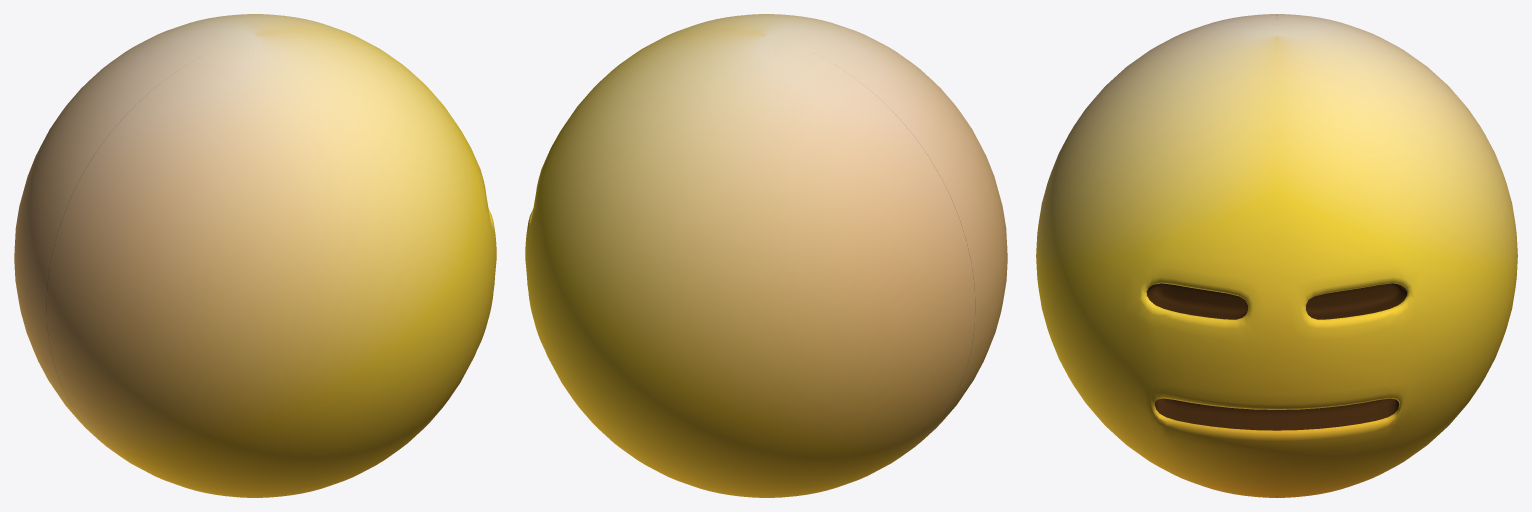
File: normal.glb
3 renders of one model, left to right at view 1: azimuth 30°, elevation 25°; view 2: azimuth 150°, elevation 25°; view 3: azimuth 270°, elevation 25°, orthographic.
Visible parts, largest first — view 1: Sphere.014_0; view 2: Sphere.014_0; view 3: Sphere.014_0.
Boxes of the visible parts, bbox=[...] form: Sphere.014_0: bbox=[14, 14, 496, 497]; Sphere.014_0: bbox=[525, 14, 1007, 497]; Sphere.014_0: bbox=[1036, 14, 1517, 497].
Bounding box in the file's own units: 1.98 × 2 × 1.97.
2 materials, 1 textured.
